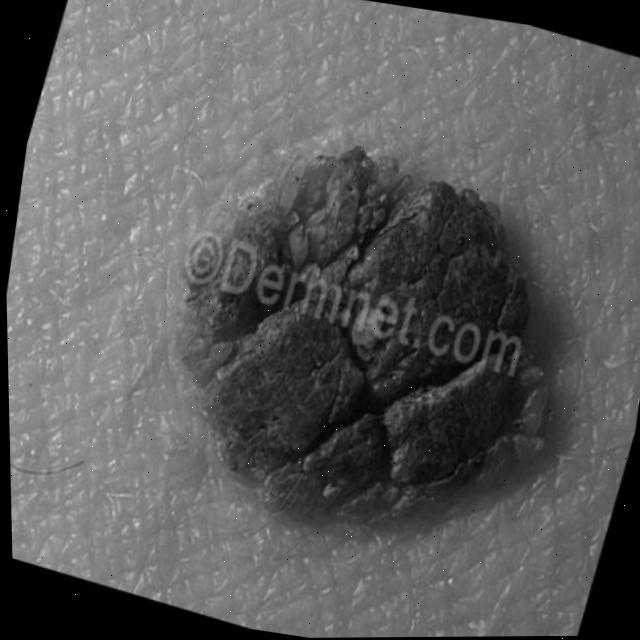Eczema: (136, 116, 583, 560)
